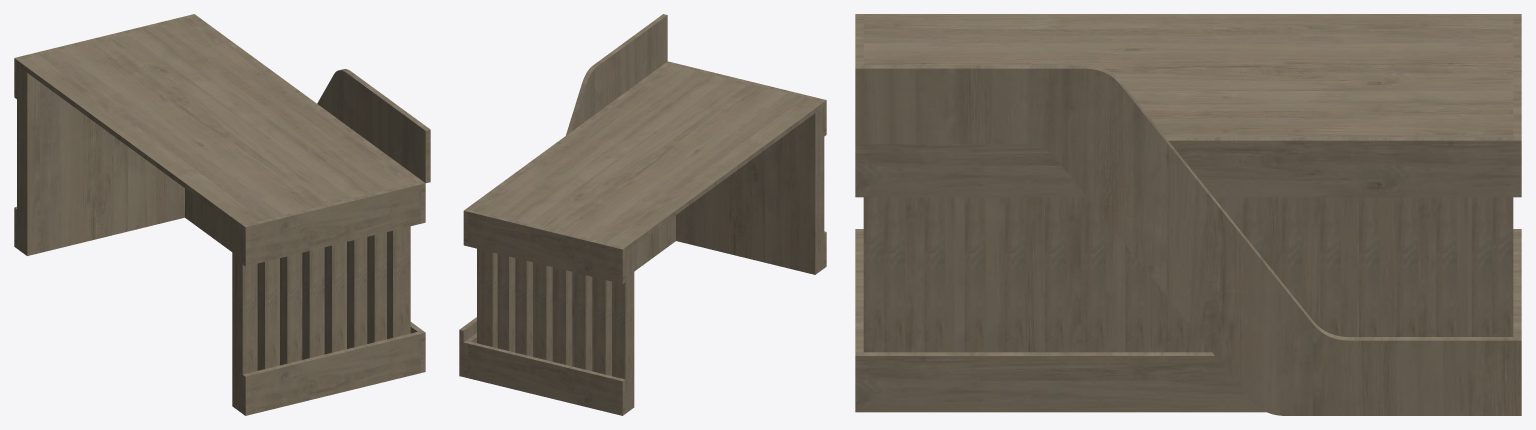
The model's file is res13.glb.
3 views of the same model, side by side, from view 1: azimuth 30°, elevation 25°; view 2: azimuth 150°, elevation 25°; view 3: azimuth 270°, elevation 25° (orthographic). The views are drawn at different scales.
Parts seen in each view (by area): view 1: Box044, Box043, Box083, Box086, Line001, Box046, Box049, Box052, Box050, Box053, Box054, Box055 (+7 smaller); view 2: Box044, Box049, Box082, Box085, Line001, Box073, Box043, Box079, Box075, Box074, Box076, Box077 (+7 smaller); view 3: Line001, Box044, Box041, Box081, Box084, Box057, Box059, Box056, Box058, Box060, Box061, Box070 (+13 smaller).
Part boxes in pixels (<box>): Box044: <box>17,17,417,229</box>; Box043: <box>24,71,184,255</box>; Box083: <box>242,182,420,266</box>; Box086: <box>242,332,420,415</box>; Line001: <box>317,69,430,182</box>; Box046: <box>235,225,254,413</box>; Box049: <box>232,223,367,407</box>; Box052: <box>302,248,322,359</box>; Box050: <box>257,259,277,370</box>; Box053: <box>324,242,344,354</box>; Box054: <box>347,237,366,348</box>; Box055: <box>367,232,386,343</box>; Box044: <box>471,64,824,251</box>; Box049: <box>676,111,817,274</box>; Box082: <box>468,210,625,283</box>; Box085: <box>468,341,625,415</box>; Line001: <box>459,14,667,376</box>; Box073: <box>614,248,631,413</box>; Box043: <box>515,246,634,408</box>; Box079: <box>497,254,515,352</box>; Box075: <box>574,272,592,371</box>; Box074: <box>594,277,611,375</box>; Box076: <box>555,267,572,366</box>; Box077: <box>535,263,552,361</box>; Line001: <box>855,65,1521,415</box>; Box044: <box>863,14,1513,137</box>; Box041: <box>905,197,1471,352</box>; Box081: <box>855,137,1521,197</box>; Box084: <box>855,352,1265,412</box>; Box057: <box>884,197,905,352</box>; Box059: <box>964,197,985,352</box>; Box056: <box>863,197,884,352</box>; Box058: <box>924,197,945,352</box>; Box060: <box>1005,197,1025,352</box>; Box061: <box>1045,197,1065,352</box>; Box070: <box>1397,197,1418,336</box>.
Size of what is drawn, in the model's own units: 0.74 by 0.92 by 1.6.
1 material, 1 textured.
